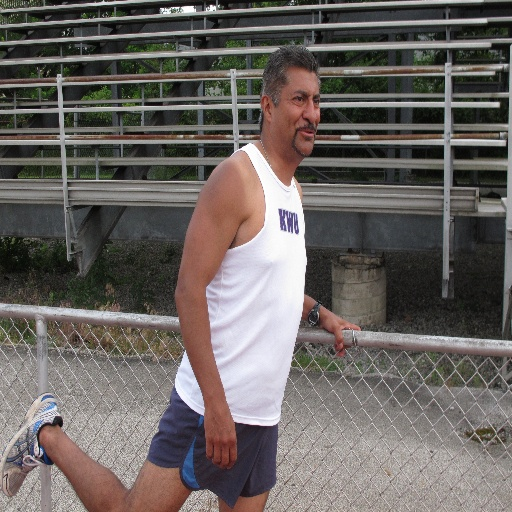hand: (317, 305, 359, 363), (202, 405, 237, 471)
